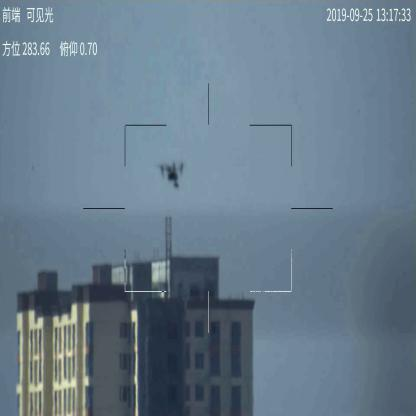uav: (158, 159, 183, 189)
